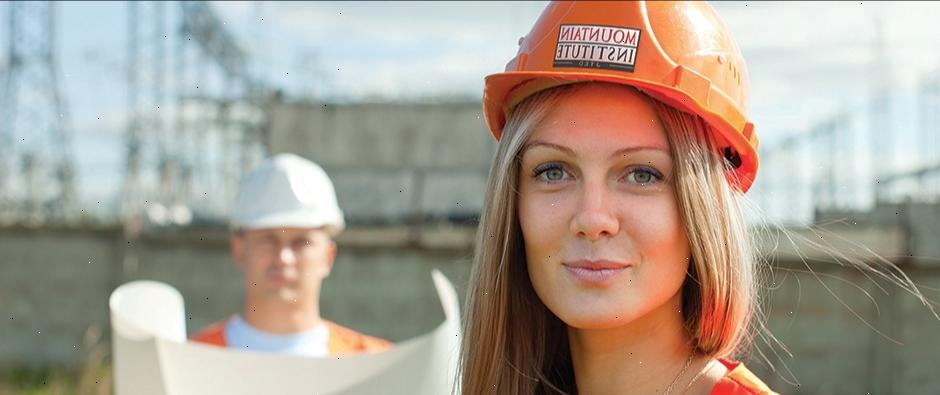helmet: (483, 0, 769, 183), (227, 153, 348, 241)
